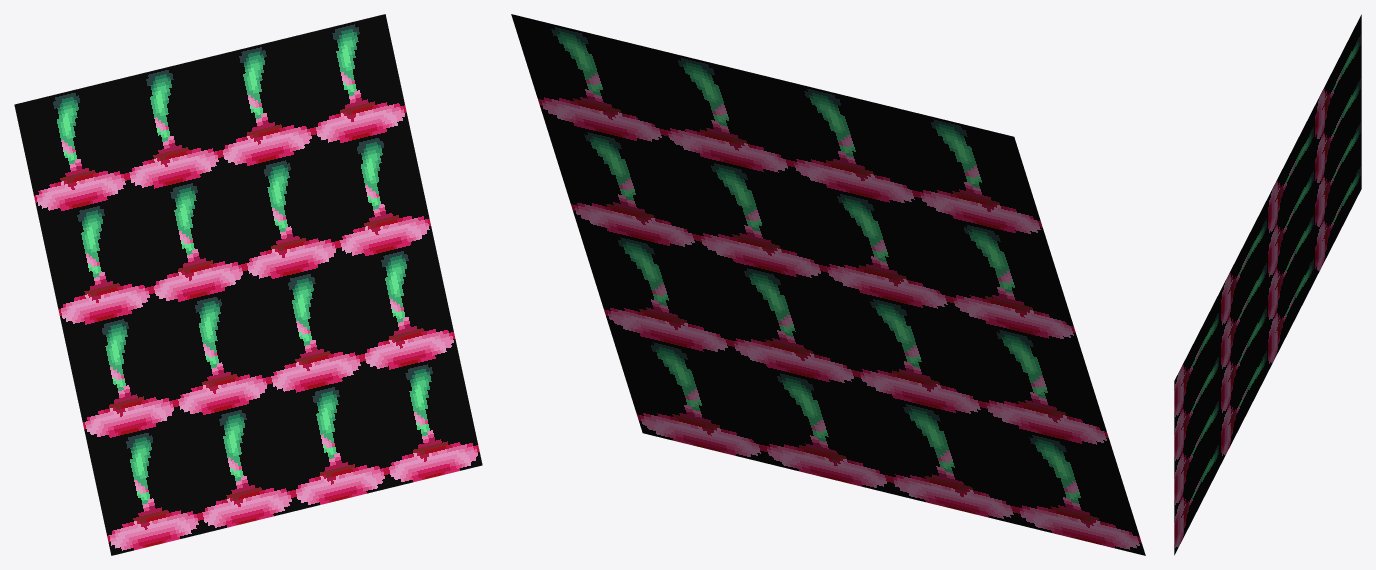
The model's file is kinoko_c01.gltf.
The picture shows the model from 3 angles, left to right: view 1: azimuth 30°, elevation 25°; view 2: azimuth 150°, elevation 25°; view 3: azimuth 270°, elevation 25°; orthographic projection. The views are drawn at different scales.
Visible parts, largest first — view 1: kinoko_c01; view 2: kinoko_c01; view 3: kinoko_c01.
Boxes of the visible parts, box(x1,y1,x2,y2) form: kinoko_c01: box(14, 14, 482, 555); kinoko_c01: box(511, 14, 1145, 555); kinoko_c01: box(1174, 14, 1361, 555).
Bounding box in the file's own units: 0.7314 × 0.7161 × 0.3313.
1 material, 1 textured.
